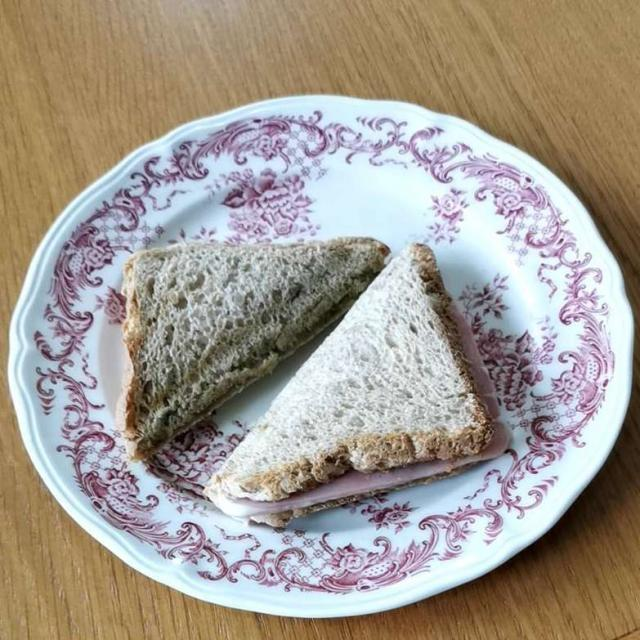bread: (123, 244, 512, 524)
ham: (213, 452, 464, 510)
